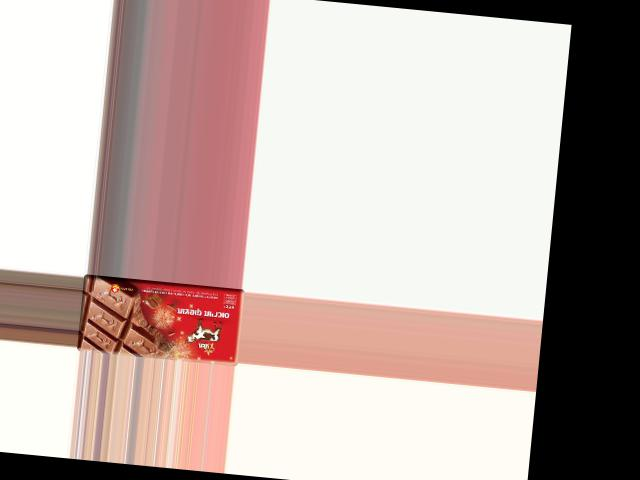chocolate: (77, 274, 245, 365)
